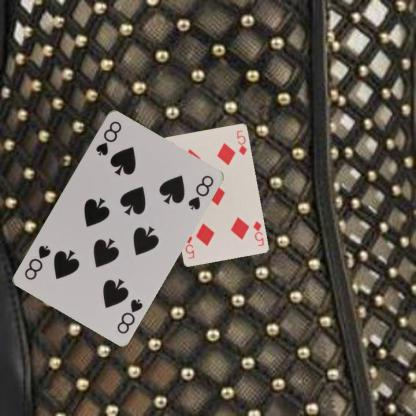5d: (250, 218, 265, 247)
8s: (114, 296, 144, 335), (93, 118, 123, 156)
